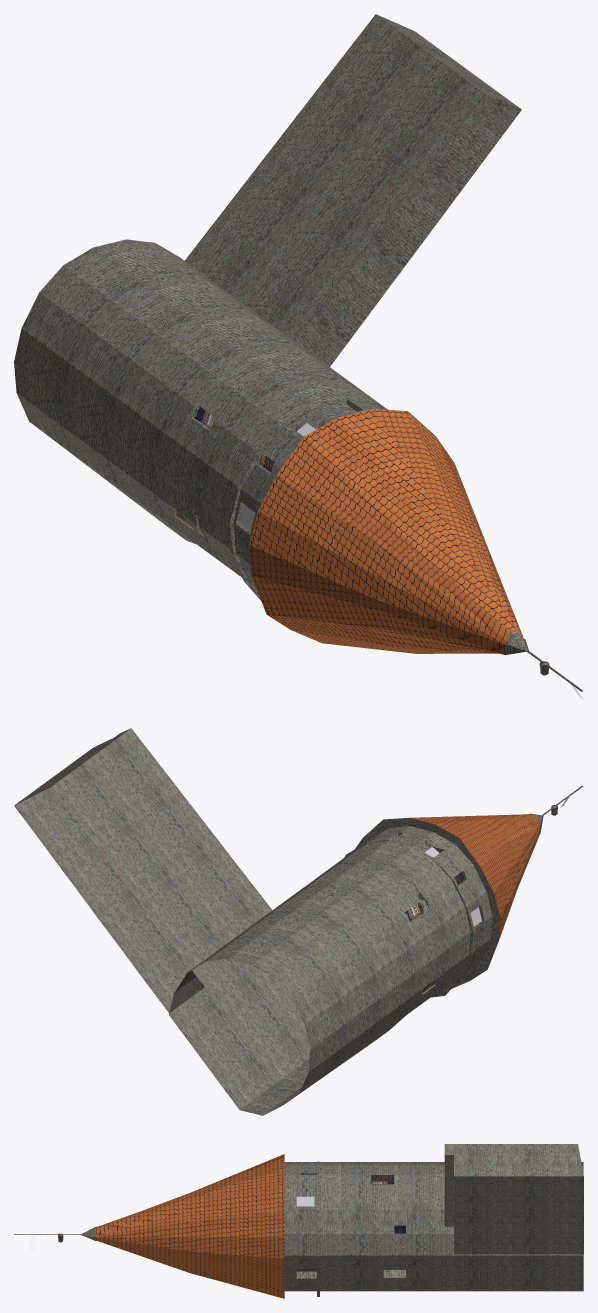
The model's file is Laboratooriumi_33-origo.obj.
The picture shows the model from 3 angles, top to bottom: view 1: azimuth 30°, elevation 25°; view 2: azimuth 150°, elevation 25°; view 3: azimuth 270°, elevation 25°; orthographic projection. The views are drawn at different scales.
Visible parts, largest first — view 1: Laboratooriumi_33; view 2: Laboratooriumi_33; view 3: Laboratooriumi_33.
Boxes of the visible parts, x1,y1,x2,y2 form: Laboratooriumi_33: [14, 14, 583, 699]; Laboratooriumi_33: [14, 728, 583, 1115]; Laboratooriumi_33: [14, 1144, 583, 1298].
Size of the model in its own units: 20.44 by 18 by 40.24.
